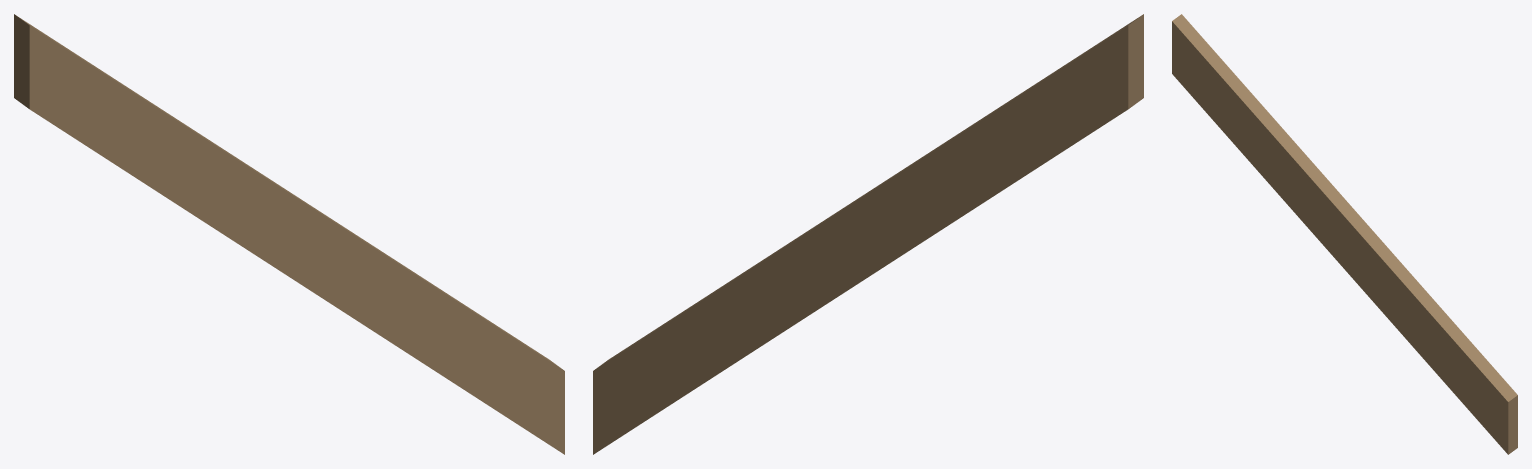
The model's file is Waterwheel_Flume_Support_Brace.obj.
3 views of the same model, side by side, from view 1: azimuth 30°, elevation 25°; view 2: azimuth 150°, elevation 25°; view 3: azimuth 330°, elevation 25° (orthographic). The views are drawn at different scales.
Parts seen in each view (by area): view 1: flume_support_brace; view 2: flume_support_brace; view 3: flume_support_brace.
Boxes of the visible parts, left/top/right/bottom form: flume_support_brace: left=14, top=14, right=564, bottom=454; flume_support_brace: left=593, top=14, right=1143, bottom=454; flume_support_brace: left=1172, top=14, right=1517, bottom=454.
Bounding box in the file's own units: 1 × 1 × 0.05.
